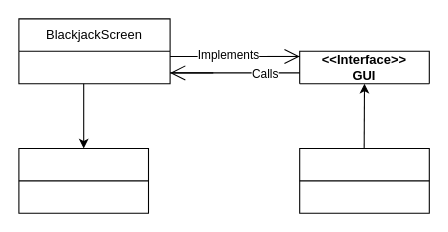
The diagram is 448 pixels wide and 232 high, and some of its shapes have lost their labels. Each missing label, with the centre of its shape:
BlackjackController: point 364,180
Lanterna: point 83,180
